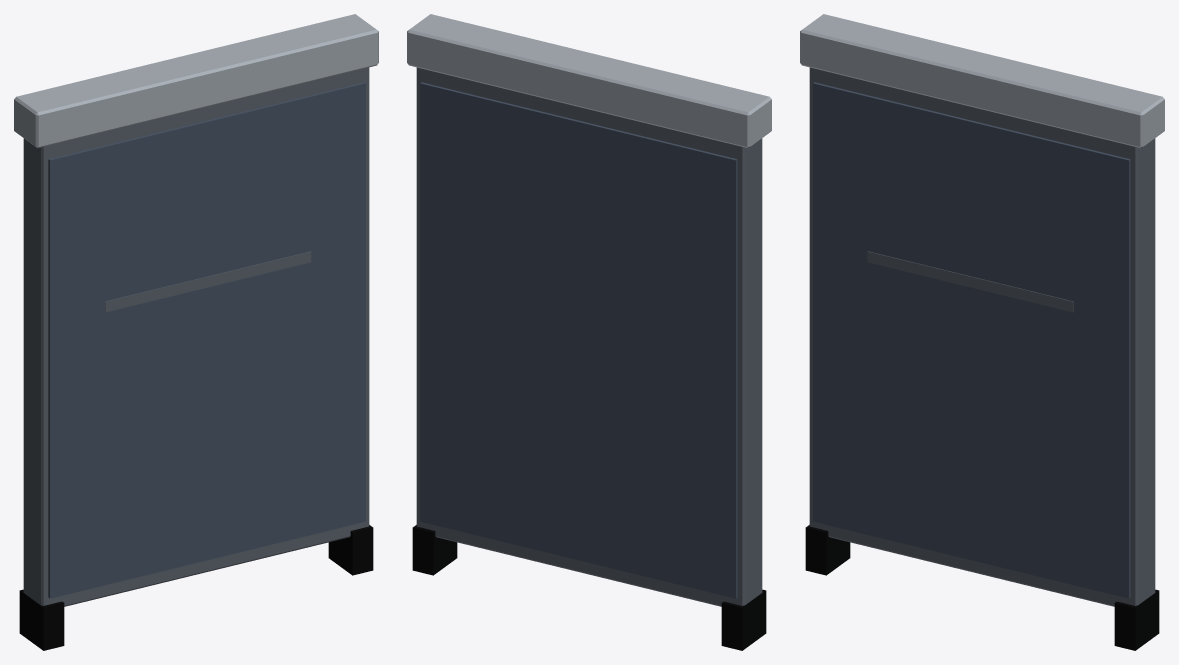
File: cubicle_wall.glb
3 views of the same model, side by side, from view 1: azimuth 30°, elevation 25°; view 2: azimuth 150°, elevation 25°; view 3: azimuth 330°, elevation 25° (orthographic).
Visible parts, largest first — view 1: cubicle_wall; view 2: cubicle_wall; view 3: cubicle_wall.
Part boxes in pixels (box(x1,y1,x2,y2)): cubicle_wall: box(14, 14, 378, 650); cubicle_wall: box(407, 14, 771, 650); cubicle_wall: box(800, 14, 1164, 650).
Size of the model in its own units: 1 by 1.5 by 0.12.
